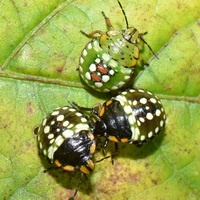insect: (34, 89, 165, 199), (78, 0, 157, 94)
